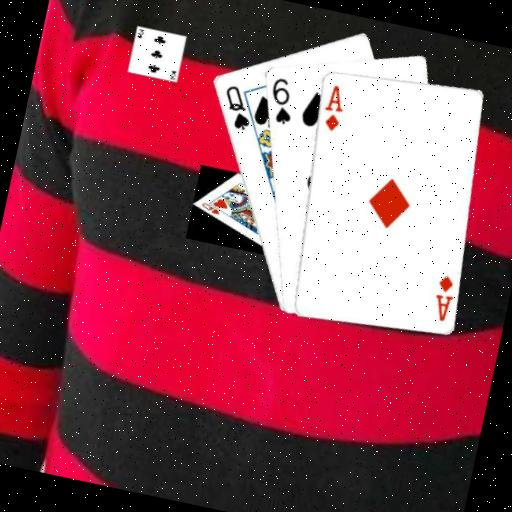6S: (261, 72, 300, 127)
AD: (316, 80, 348, 133), (427, 270, 458, 323)
QS: (215, 80, 258, 133)
